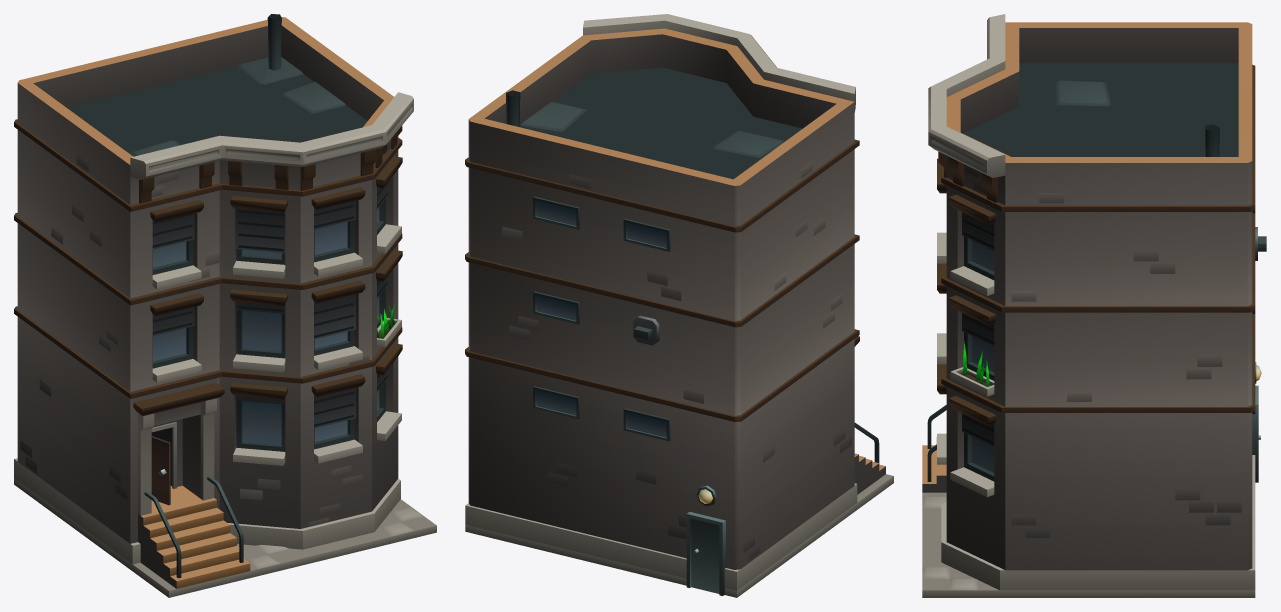
The model's file is Building_3B.fbx.
3 views of the same model, side by side, from view 1: azimuth 30°, elevation 25°; view 2: azimuth 150°, elevation 25°; view 3: azimuth 270°, elevation 25° (orthographic). The views are drawn at different scales.
Parts seen in each view (by area): view 1: Building_3B; view 2: Building_3B; view 3: Building_3B.
Part boxes in pixels (bbox=[...]): Building_3B: bbox=[14, 14, 436, 597]; Building_3B: bbox=[465, 14, 893, 597]; Building_3B: bbox=[922, 14, 1266, 597].
Size of the model in its own units: 1242 by 1814 by 1242.
